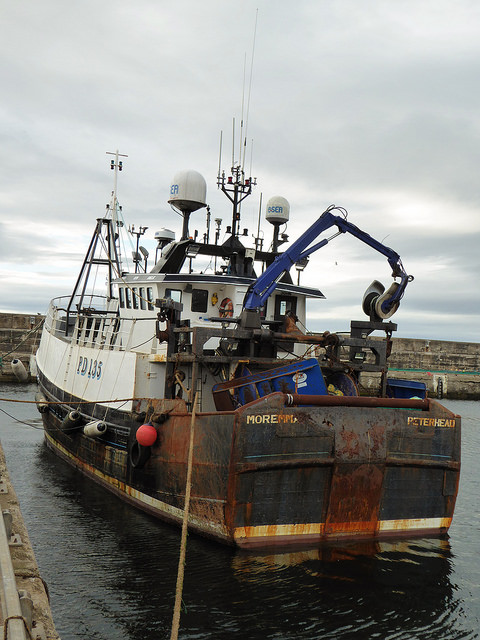fishing_boat: (31, 124, 465, 558)
